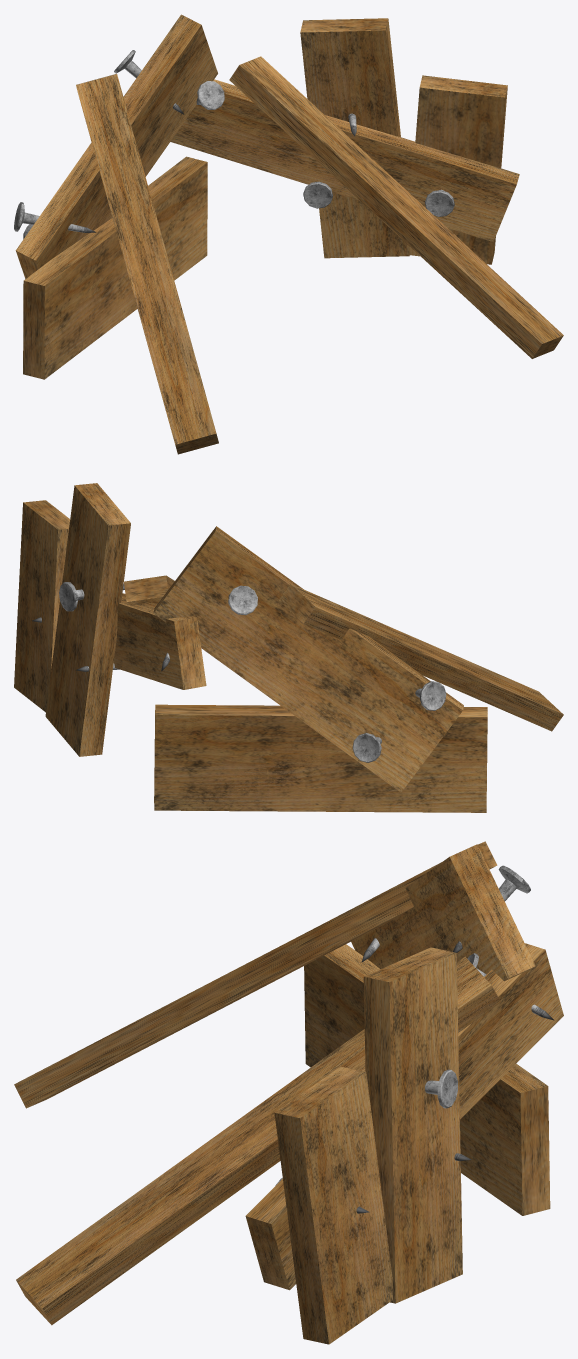
Rendered from ArmureBois_A.obj.
3 renders of one model, top to bottom at view 1: azimuth 30°, elevation 25°; view 2: azimuth 150°, elevation 25°; view 3: azimuth 270°, elevation 25°, orthographic. The views are drawn at different scales.
Visible parts, largest first — view 1: armure_de_bois; view 2: armure_de_bois; view 3: armure_de_bois.
Boxes of the visible parts, x1,y1,x2,y2 form: armure_de_bois: [14, 14, 563, 454]; armure_de_bois: [14, 483, 563, 812]; armure_de_bois: [14, 841, 563, 1344].
Size of the model in its own units: 114 by 64.01 by 88.07.
1 material, 1 textured.
